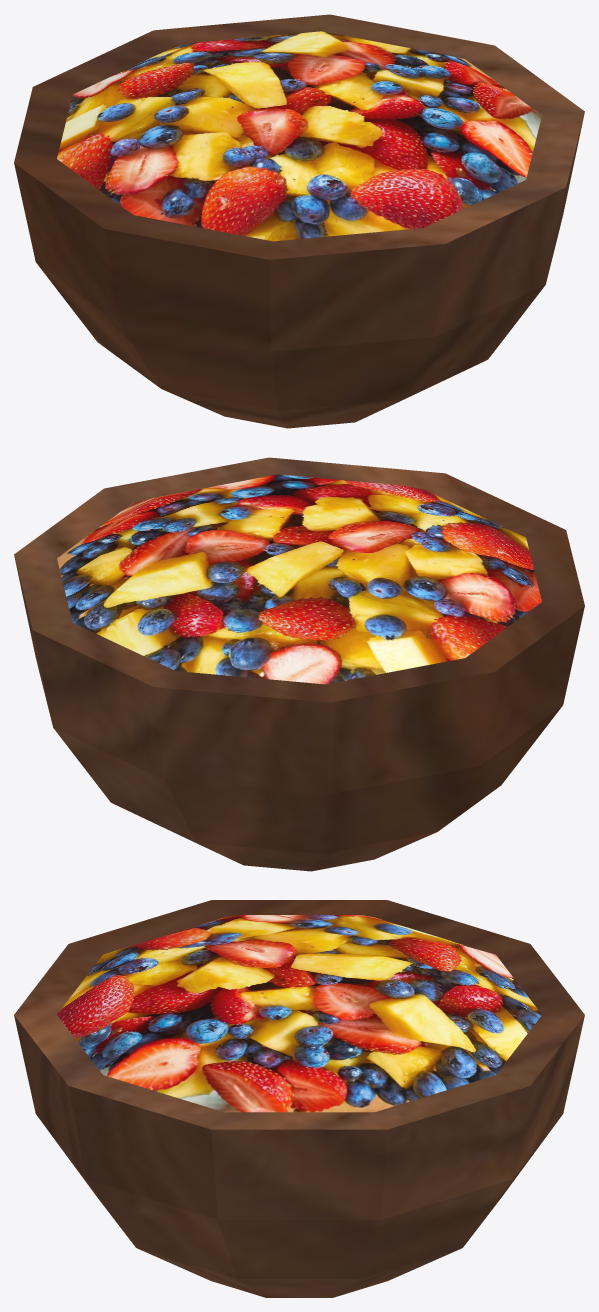
File: fruit.gltf
3 renders of one model, top to bottom at view 1: azimuth 30°, elevation 25°; view 2: azimuth 150°, elevation 25°; view 3: azimuth 270°, elevation 25°, orthographic. The views are drawn at different scales.
Visible parts, largest first — view 1: Sphere; view 2: Sphere; view 3: Sphere.
Part boxes in pixels (x1,y1,x2,y2): Sphere: (14,14,584,428); Sphere: (14,457,584,871); Sphere: (14,900,584,1297).
Bounding box in the file's own units: 1.9 × 1.15 × 2.
1 material, 1 textured.
